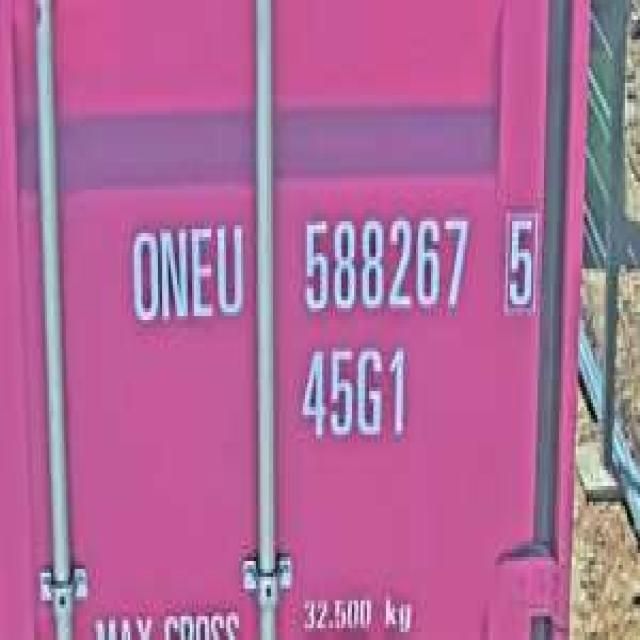dv: (499, 202, 540, 316)
owner: (124, 213, 247, 332)
serial: (294, 205, 472, 324)
size: (294, 340, 414, 450)
